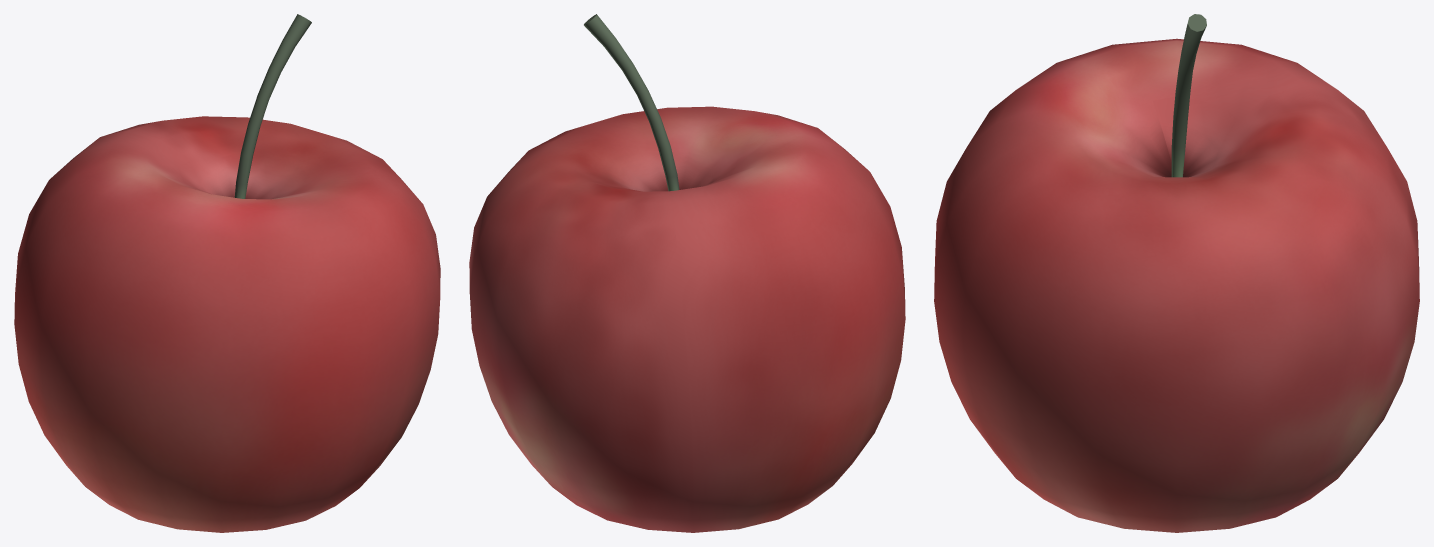
Rendered from apple.fbx.
The picture shows the model from 3 angles, left to right: view 1: azimuth 30°, elevation 25°; view 2: azimuth 150°, elevation 25°; view 3: azimuth 270°, elevation 25°; orthographic projection. The views are drawn at different scales.
Visible parts, largest first — view 1: nurbsToPoly1, nurbsToPoly2; view 2: nurbsToPoly1, nurbsToPoly2; view 3: nurbsToPoly1, nurbsToPoly2.
Part boxes in pixels (bbox=[...]): nurbsToPoly1: bbox=[14, 116, 440, 532]; nurbsToPoly2: bbox=[234, 14, 311, 198]; nurbsToPoly1: bbox=[469, 106, 905, 532]; nurbsToPoly2: bbox=[584, 14, 679, 191]; nurbsToPoly1: bbox=[934, 38, 1419, 532]; nurbsToPoly2: bbox=[1171, 14, 1206, 177].
Bounding box in the file's own units: 8.42 × 9.62 × 8.17.
Materials: 2 (2 with a texture image).
